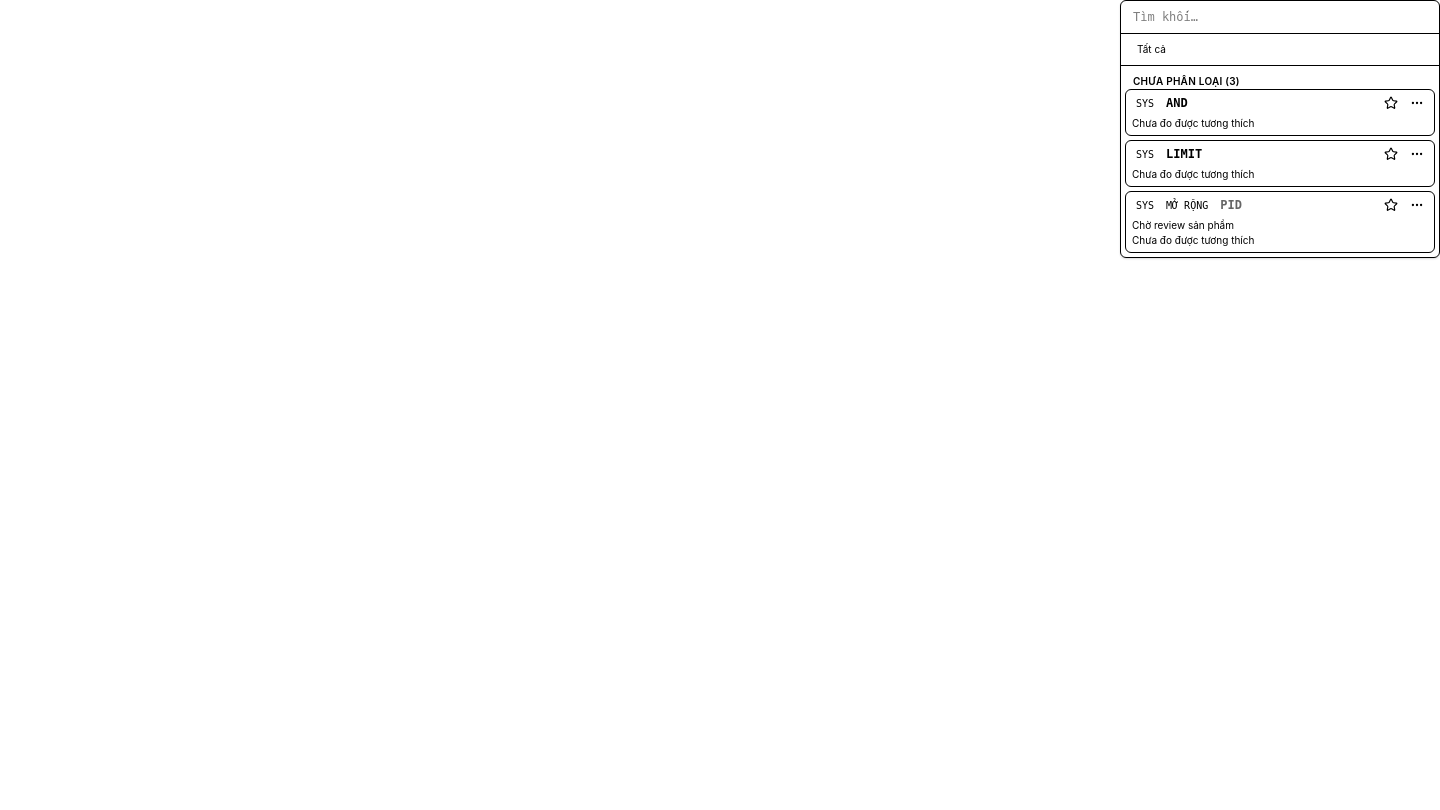
Scenario: PGM-02 Quick Library (T59-804) › AC-ST-001 / AC-FBD-002: chèn FUNCTION bằng đúng lời gọi có tham số của catalog
The width and height of the screenshot is (1440, 810).
Click the button with aria-label "Chèn LIMIT". click: [1269, 154]
box: [1162,144,1376,164]
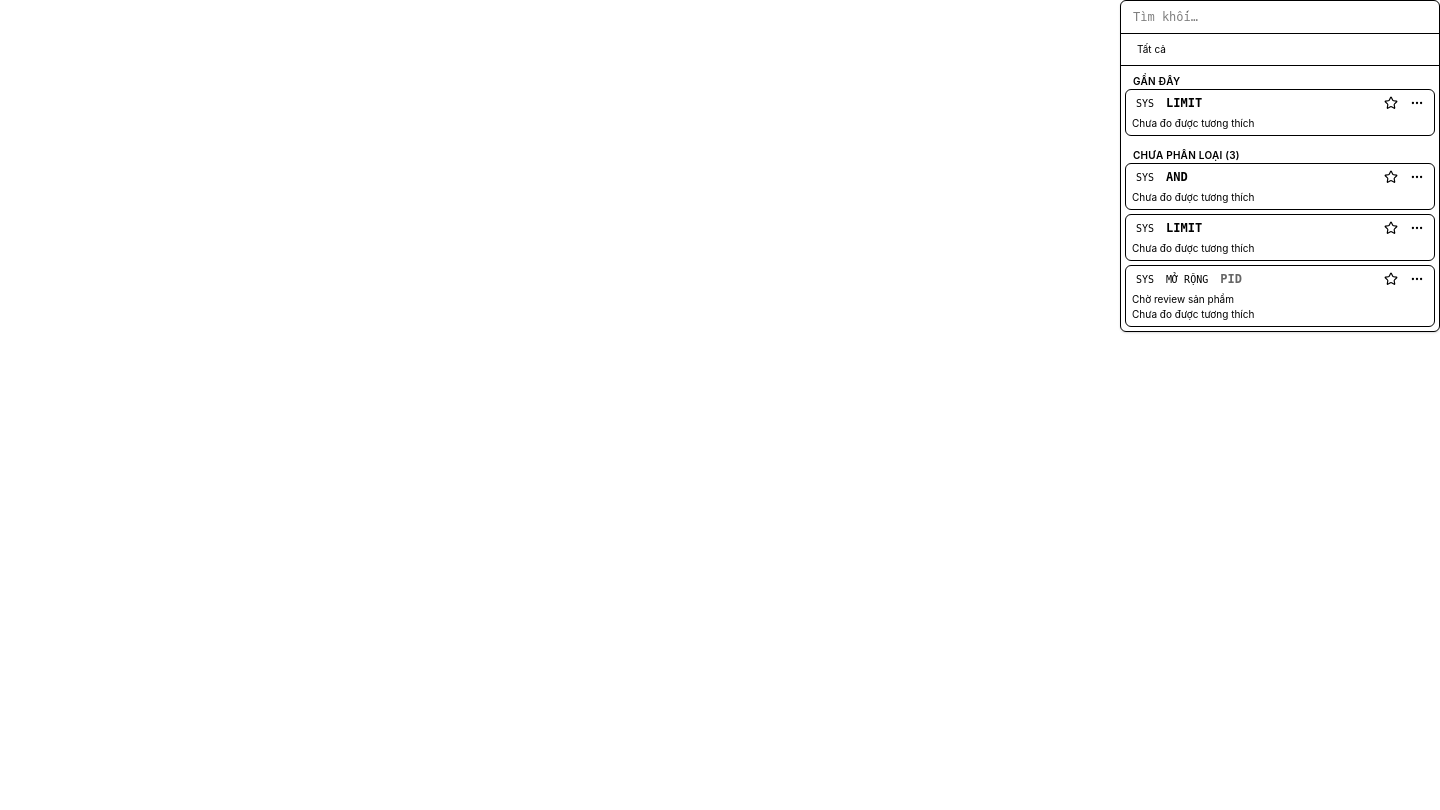
expect the button "LIMIT" below "Gần đây" is shown: met, box [1162,93,1376,113]
